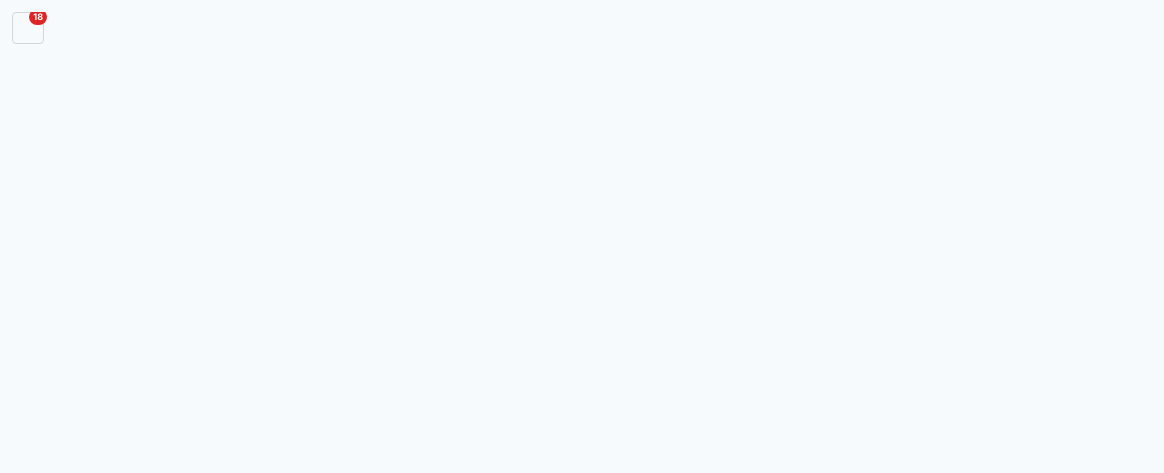
Scenario: sonne rouge quand le versement du mois clos est en retard
The width and height of the screenshot is (1164, 473).
Click the button with test id "notifications-toggle": (28, 28) [12,12,44,44]
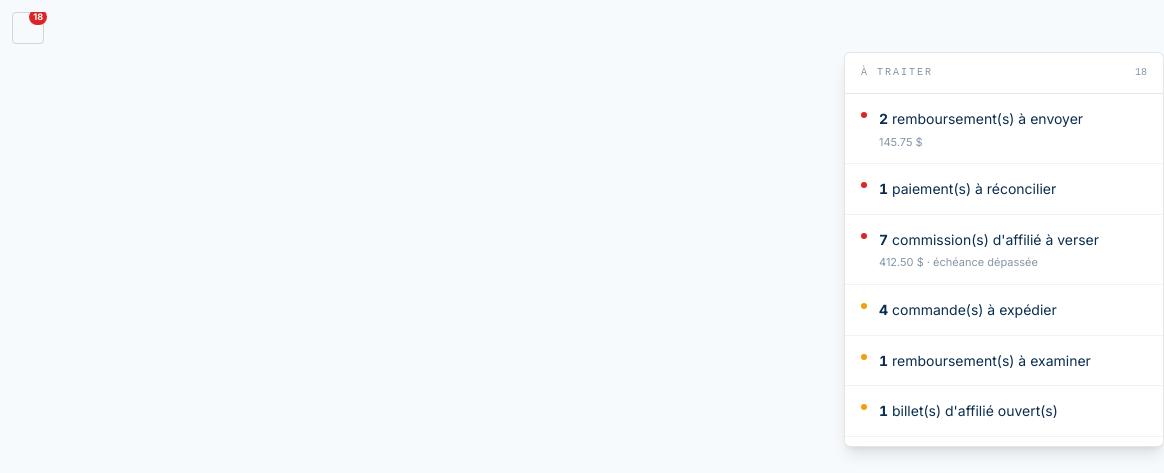
Result: the link with test id "notification-affiliate-payout" shows "7 commission(s) d'affilié à verser" at [861,231,1099,269]
Result: the link with test id "notification-affiliate-payout" shows "échéance dépassée" at [861,231,1099,269]
Result: the link with test id "notification-affiliate-payout" shows "412.50" at [861,231,1099,269]
